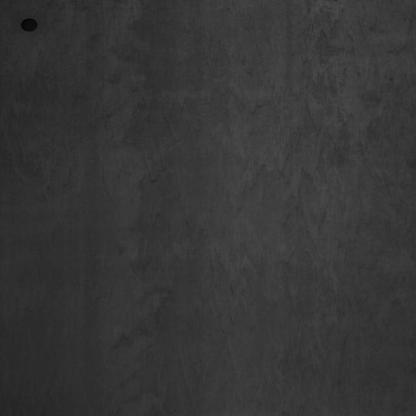punching_hole: (17, 15, 40, 35)
silk_spot: (45, 11, 413, 402)
